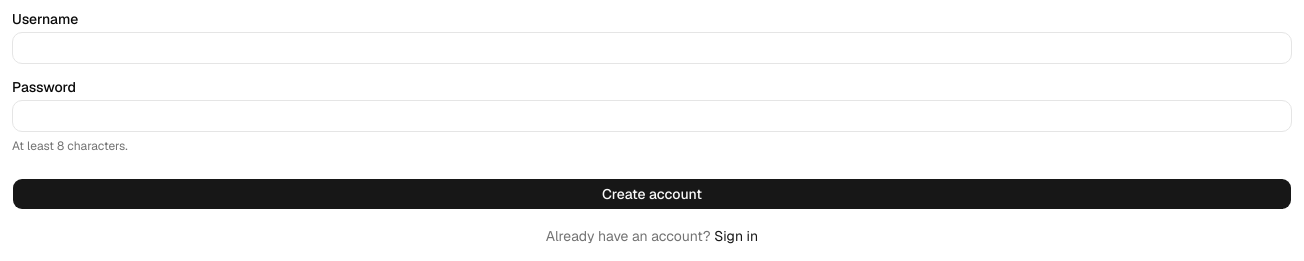
Test: RegisterForm › successful registration › renders success message after successful registration
Type "newuser" into the field labelled "Username". click: (652,48)
box: [12,32,1292,64]
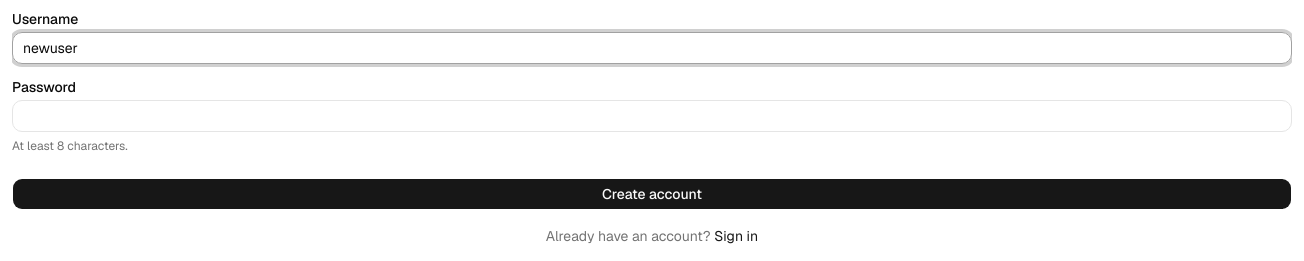
Type "password123" into the password field labelled "Password". click: (652,116)
box: [12,100,1292,132]
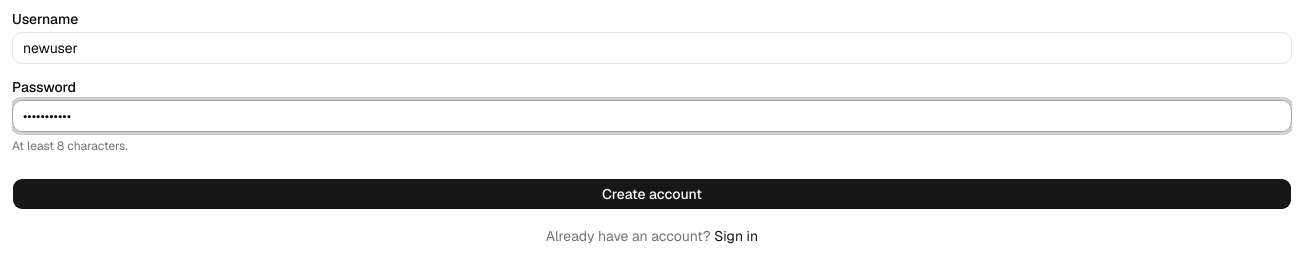
Click the button "Create account". click: (652,194)
box: [12,178,1292,210]
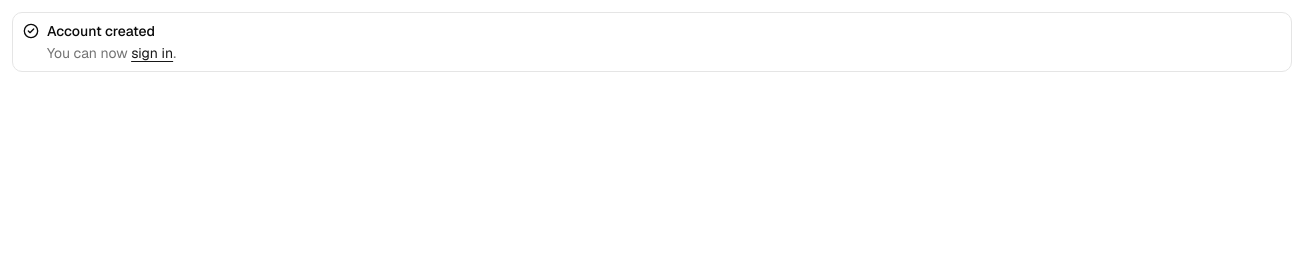
Check: the text "Account created" is shown, box [47,22,155,40]
